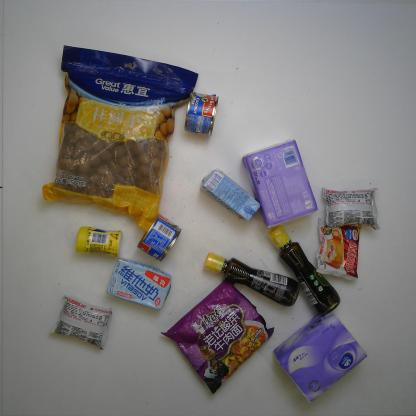Canned Food: (134, 213, 184, 264), (183, 90, 221, 139)
Dessert: (46, 292, 115, 353), (314, 215, 363, 284), (320, 186, 381, 232)
Dried Food: (40, 43, 200, 234)
Gum: (74, 225, 124, 258)
Instant Noodles: (159, 279, 276, 397)
Milk: (104, 256, 173, 312), (199, 167, 262, 224)
Seasoner: (266, 224, 341, 318), (201, 250, 302, 308)
Tissue: (271, 310, 368, 404), (239, 138, 320, 232)
